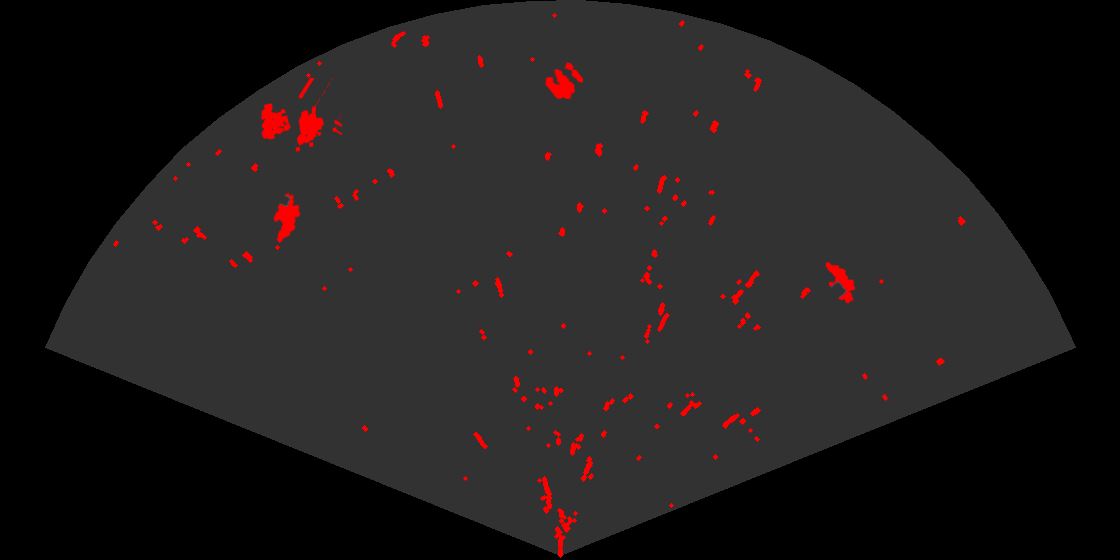AUV: (272, 191, 302, 245), (824, 260, 857, 305)
ball: (544, 61, 585, 101)
cage: (259, 78, 342, 153)
